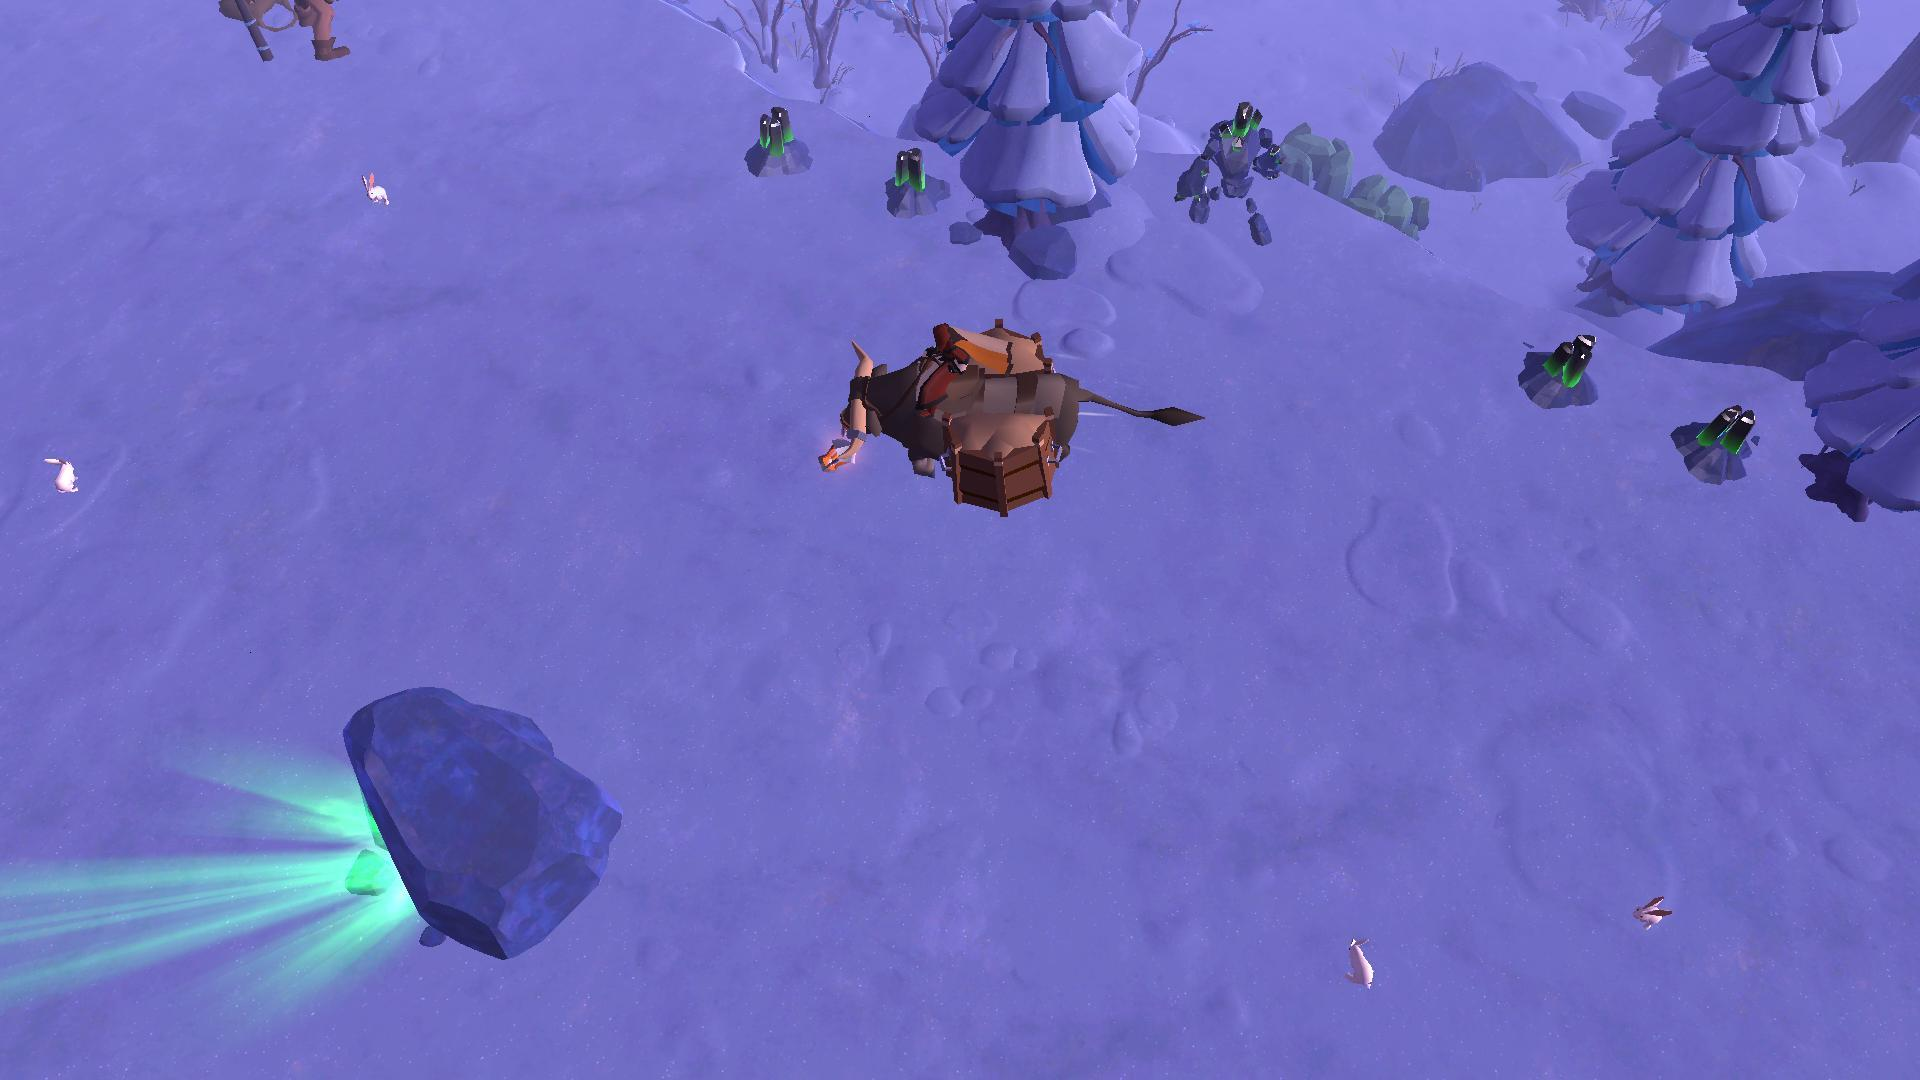mobOre_t3: (1180, 95, 1288, 257)
ore_t3: (1675, 392, 1766, 484), (1515, 314, 1600, 409), (874, 132, 943, 220), (738, 94, 806, 178)
rock_t3: (1266, 116, 1357, 206), (1349, 158, 1440, 241)
